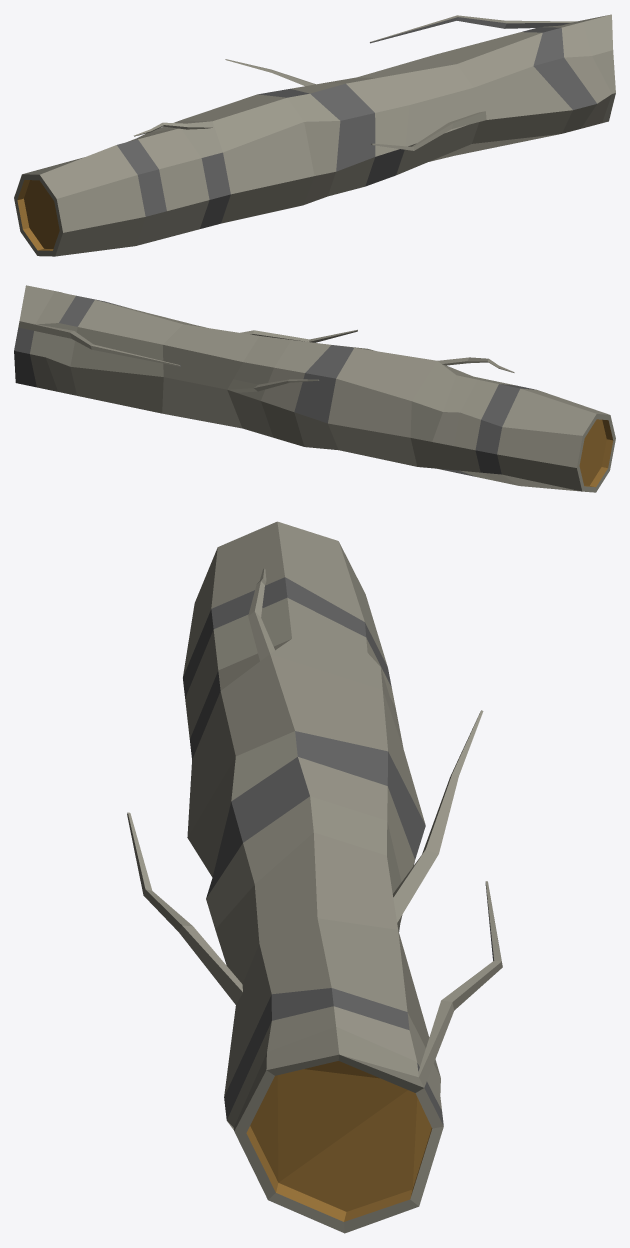
Rendered from log_fallen.fbx.
3 views of the same model, one above another, from view 1: azimuth 30°, elevation 25°; view 2: azimuth 150°, elevation 25°; view 3: azimuth 270°, elevation 25° (orthographic). The views are drawn at different scales.
Visible parts, largest first — view 1: fallentree; view 2: fallentree; view 3: fallentree.
Boxes of the visible parts, bbox=[...] form: fallentree: bbox=[14, 14, 615, 256]; fallentree: bbox=[14, 285, 615, 492]; fallentree: bbox=[127, 521, 502, 1233].
Size of the model in its own units: 5.36 by 1.08 by 1.57.
